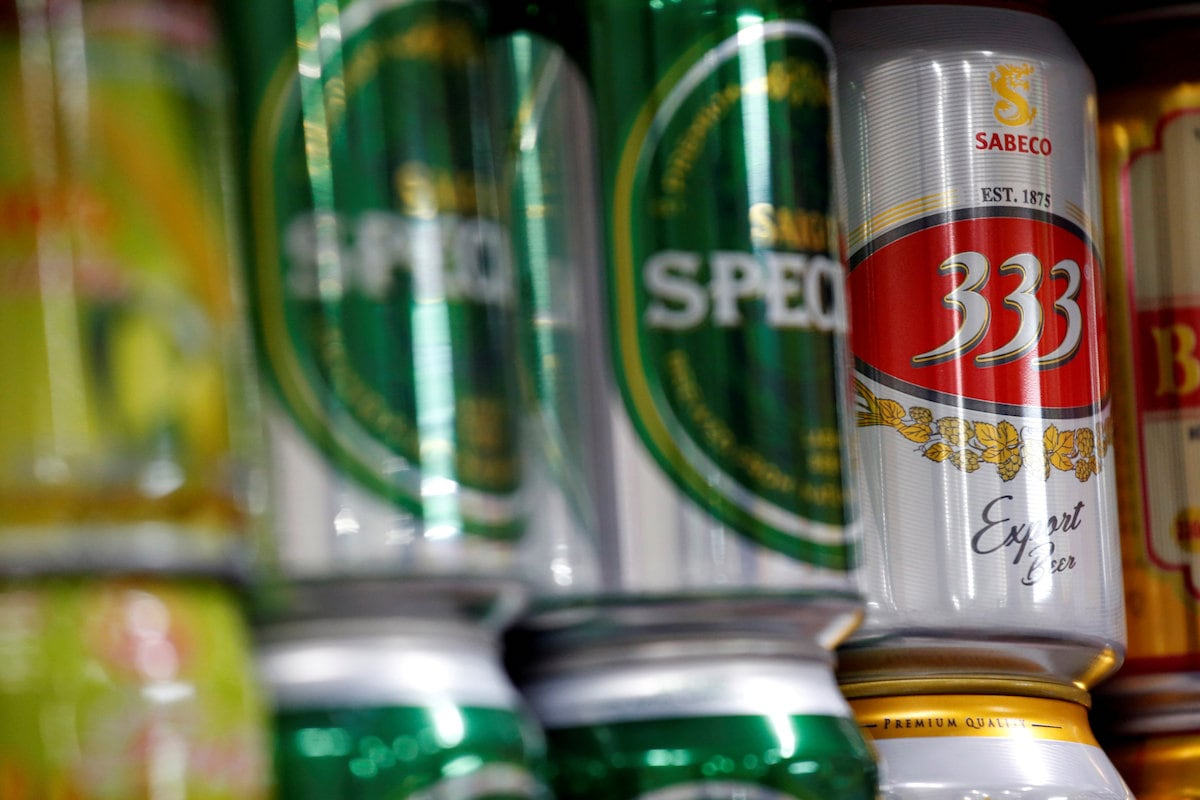333: (908, 236, 1085, 378)
biasaigon: (741, 201, 836, 253)
